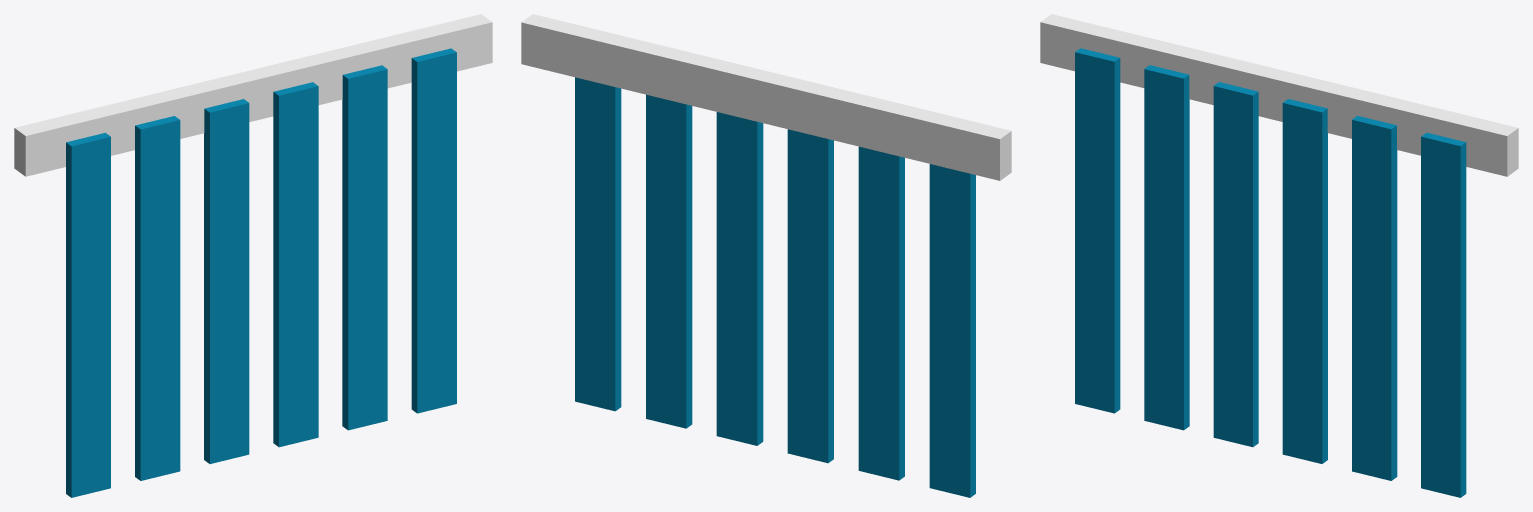
3 views of the same model, side by side, from view 1: azimuth 30°, elevation 25°; view 2: azimuth 150°, elevation 25°; view 3: azimuth 330°, elevation 25° (orthographic). The views are drawn at different scales.
Visible parts, largest first — view 1: Box, King_Fence015,_colorize_, King_Fence013,_colorize_, King_Fence014,_colorize_, King_Fence011,_colorize_, King_Fence012,_colorize_, King_Fence016,_colorize_; view 2: Box, King_Fence013,_colorize_, King_Fence012,_colorize_, King_Fence011,_colorize_, King_Fence016,_colorize_, King_Fence014,_colorize_, King_Fence015,_colorize_; view 3: Box, King_Fence015,_colorize_, King_Fence016,_colorize_, King_Fence011,_colorize_, King_Fence012,_colorize_, King_Fence013,_colorize_, King_Fence014,_colorize_.
Part boxes in pixels (bbox=[...]): Box: bbox=[14, 14, 492, 176]; King_Fence015,_colorize_: bbox=[411, 48, 456, 413]; King_Fence013,_colorize_: bbox=[273, 82, 318, 447]; King_Fence014,_colorize_: bbox=[342, 65, 387, 430]; King_Fence011,_colorize_: bbox=[135, 116, 180, 480]; King_Fence012,_colorize_: bbox=[204, 99, 249, 463]; King_Fence016,_colorize_: bbox=[66, 132, 110, 497]; Box: bbox=[521, 14, 1011, 180]; King_Fence013,_colorize_: bbox=[716, 112, 763, 445]; King_Fence012,_colorize_: bbox=[787, 129, 833, 463]; King_Fence011,_colorize_: bbox=[858, 146, 904, 480]; King_Fence016,_colorize_: bbox=[929, 164, 975, 497]; King_Fence014,_colorize_: bbox=[646, 94, 692, 428]; King_Fence015,_colorize_: bbox=[575, 77, 621, 411]; Box: bbox=[1040, 14, 1518, 176]; King_Fence015,_colorize_: bbox=[1421, 132, 1466, 497]; King_Fence016,_colorize_: bbox=[1075, 48, 1120, 413]; King_Fence011,_colorize_: bbox=[1144, 65, 1189, 430]; King_Fence012,_colorize_: bbox=[1213, 82, 1258, 447]; King_Fence013,_colorize_: bbox=[1282, 99, 1327, 463]; King_Fence014,_colorize_: bbox=[1352, 115, 1397, 480].
Size of the model in its own units: 1.2 by 0.9031 by 0.0747.
